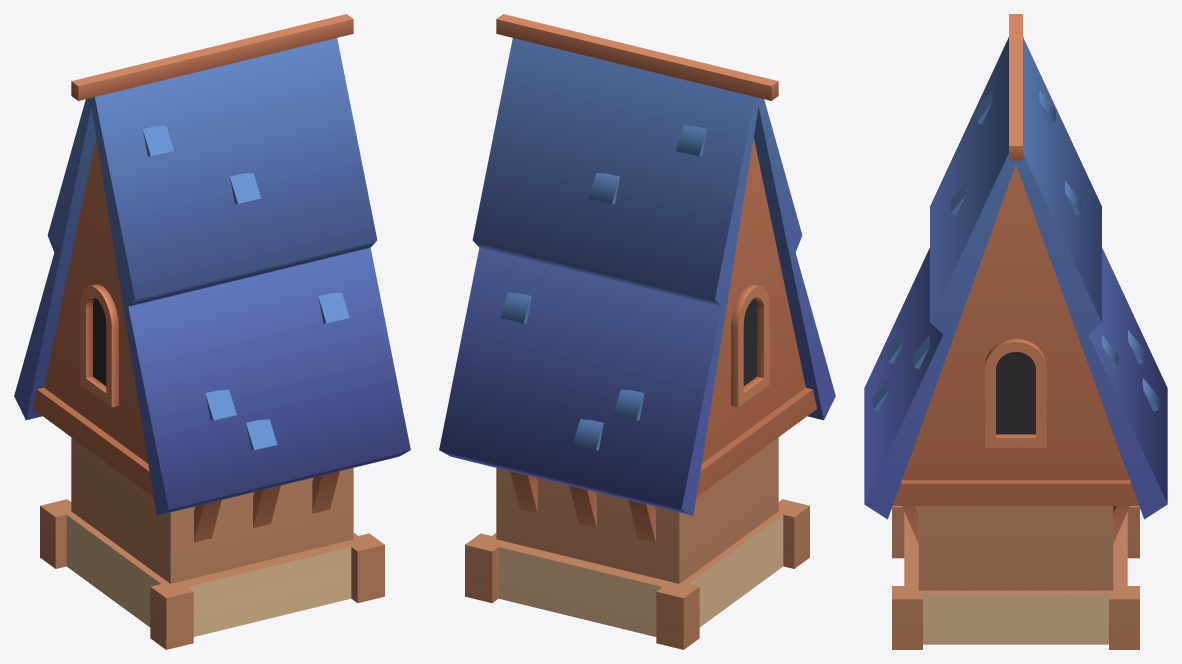
File: tower-slant-roof.glb
3 views of the same model, side by side, from view 1: azimuth 30°, elevation 25°; view 2: azimuth 150°, elevation 25°; view 3: azimuth 270°, elevation 25° (orthographic).
Visible parts, largest first — view 1: tower-slant-roof; view 2: tower-slant-roof; view 3: tower-slant-roof.
Part boxes in pixels (x1,y1,x2,y2): tower-slant-roof: (14,14,410,649); tower-slant-roof: (439,14,835,649); tower-slant-roof: (864,14,1167,649).
Size of the model in its own units: 1.17 by 2.14 by 1.14.
Materials: 1 (1 with a texture image).
